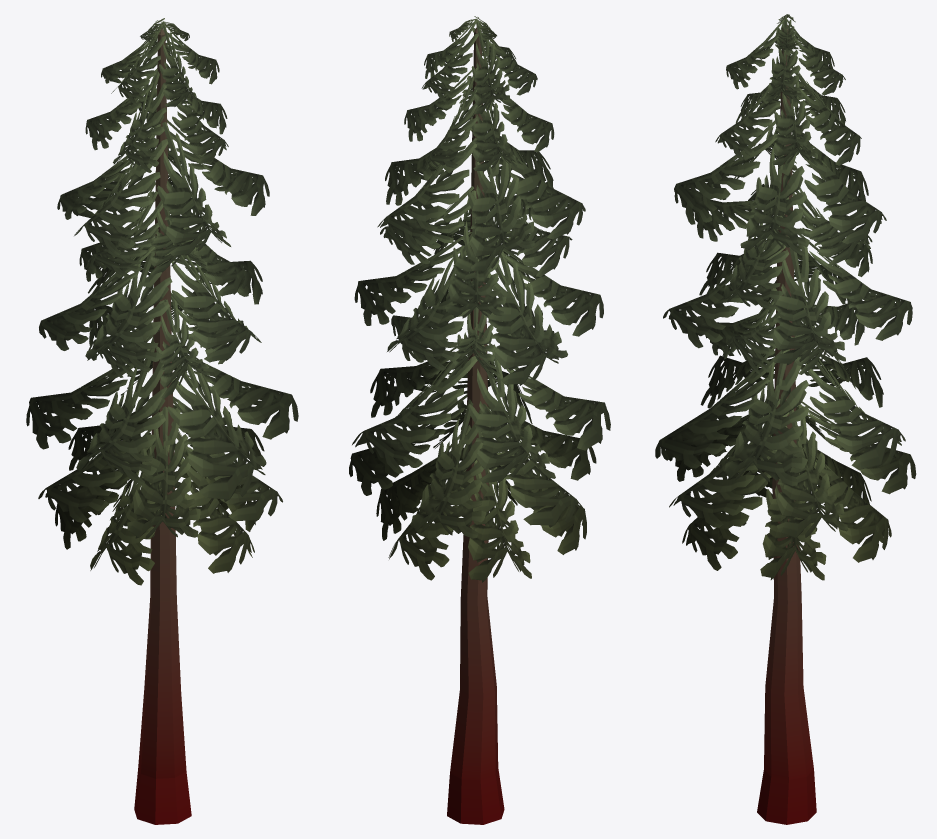
File: synty-tree-pine-large-01.gltf
3 views of the same model, side by side, from view 1: azimuth 30°, elevation 25°; view 2: azimuth 150°, elevation 25°; view 3: azimuth 270°, elevation 25° (orthographic).
Parts seen in each view (by area): view 1: SM_Tree_Pine_Large_01; view 2: SM_Tree_Pine_Large_01; view 3: SM_Tree_Pine_Large_01.
Part boxes in pixels (x1,y1,x2,y2): SM_Tree_Pine_Large_01: (26,18,298,824); SM_Tree_Pine_Large_01: (349,16,610,824); SM_Tree_Pine_Large_01: (655,14,916,824).
Bounding box in the file's own units: 2.44 × 7.53 × 2.34.
2 materials, 2 textured.
